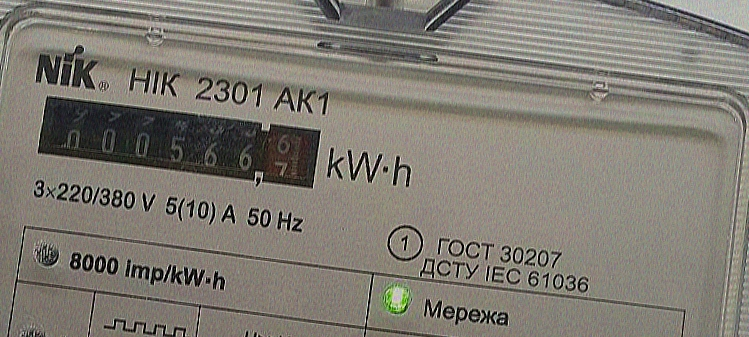0: (98, 123, 119, 154), (132, 128, 153, 159), (63, 124, 84, 149)
5: (167, 132, 188, 163)
6: (235, 139, 258, 172), (199, 137, 222, 167), (275, 130, 294, 157)
7: (272, 158, 290, 178)
9: (70, 102, 90, 124)
screen: (28, 86, 328, 197)
